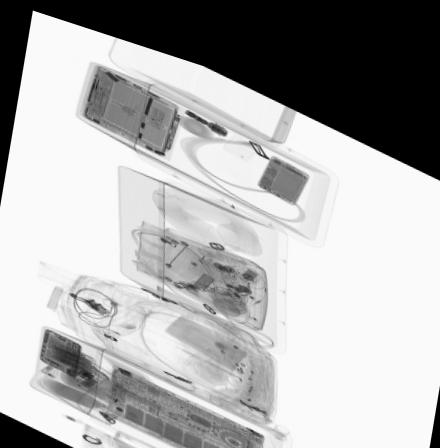Lighter: (215, 250, 239, 278)
